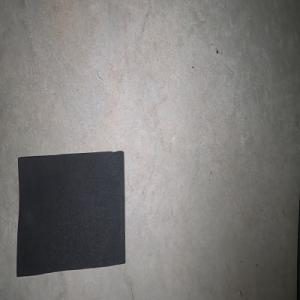PaintChip: (16, 150, 125, 277)
